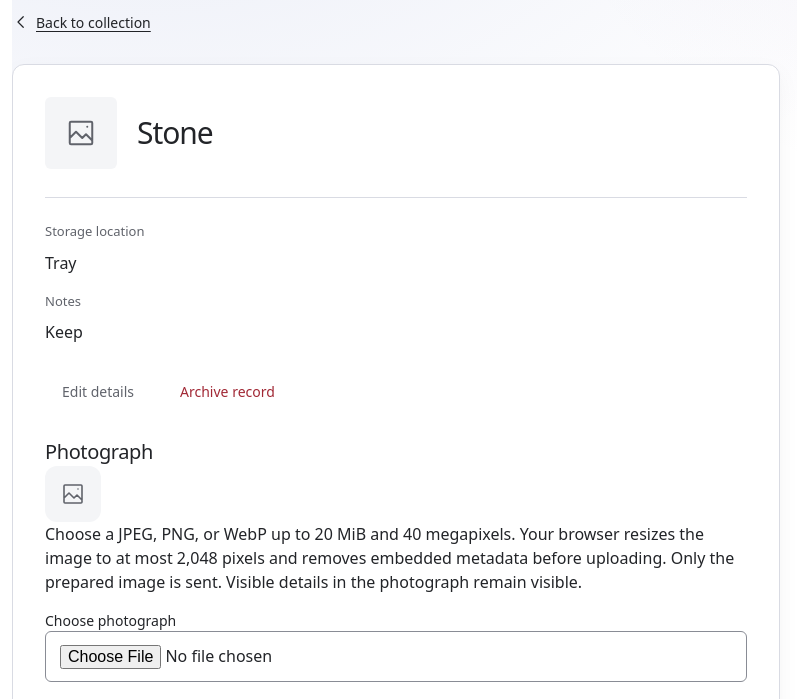
requires renewed confirmation after a stale archive and a failed recovery read
Click the button "Archive record".
click(227, 392)  # box [163,370,292,414]
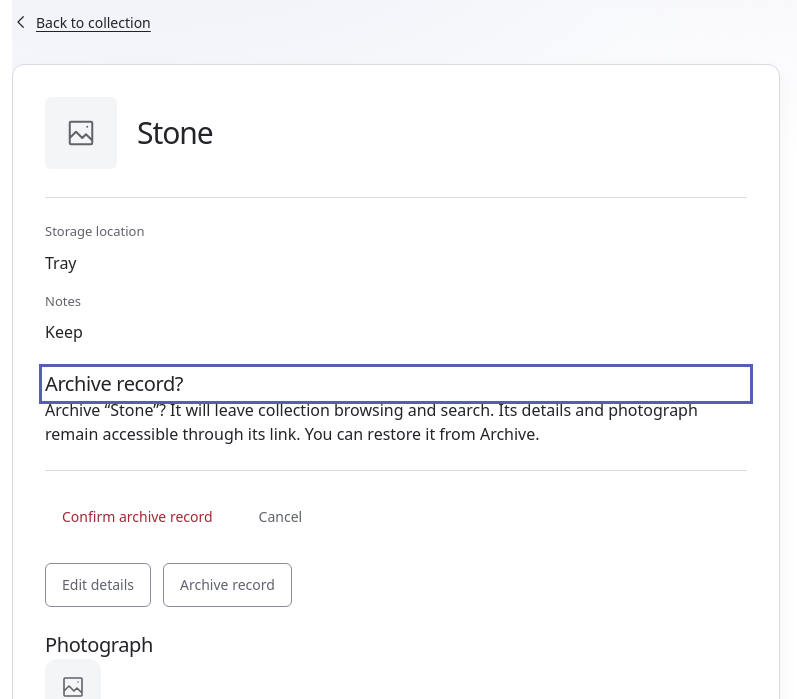
# WHEN confirming and recovering current details.
Click the button "Confirm archive record".
click(137, 517)  # box [45,495,230,539]
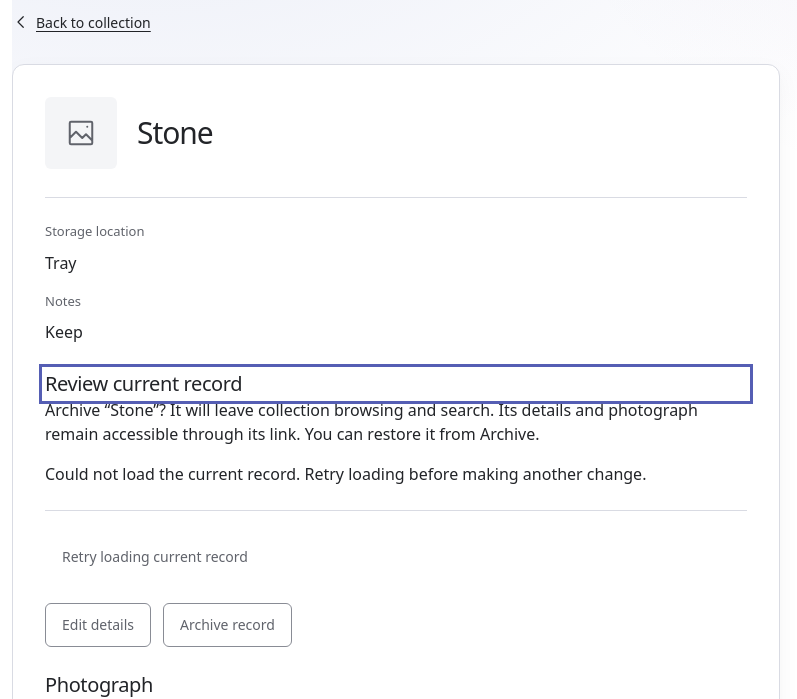
Expected: the button "Retry loading current record" is enabled
Click the button "Retry loading current record".
click(155, 557)  # box [45,535,265,579]
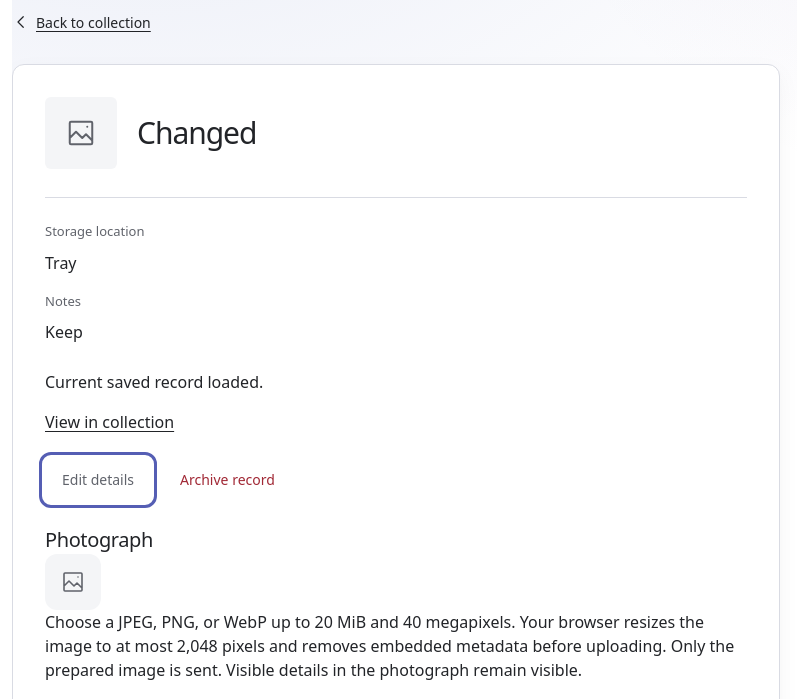
Expected: the heading "Changed" is shown, [137,114,256,152]
Click the button "Archive record".
click(227, 480)  # box [163,458,292,502]
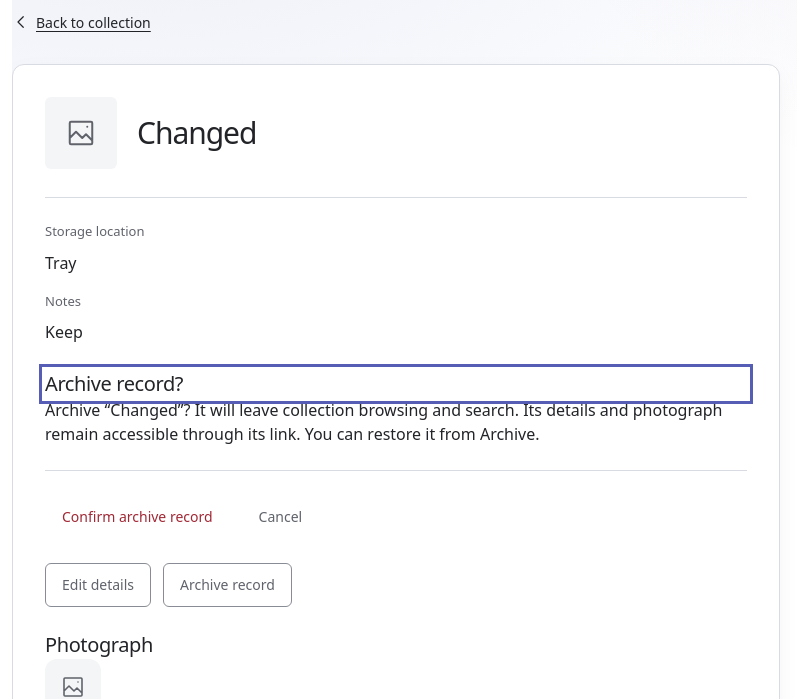
Expected: the button "Confirm archive record" is shown, [45,495,230,539]
